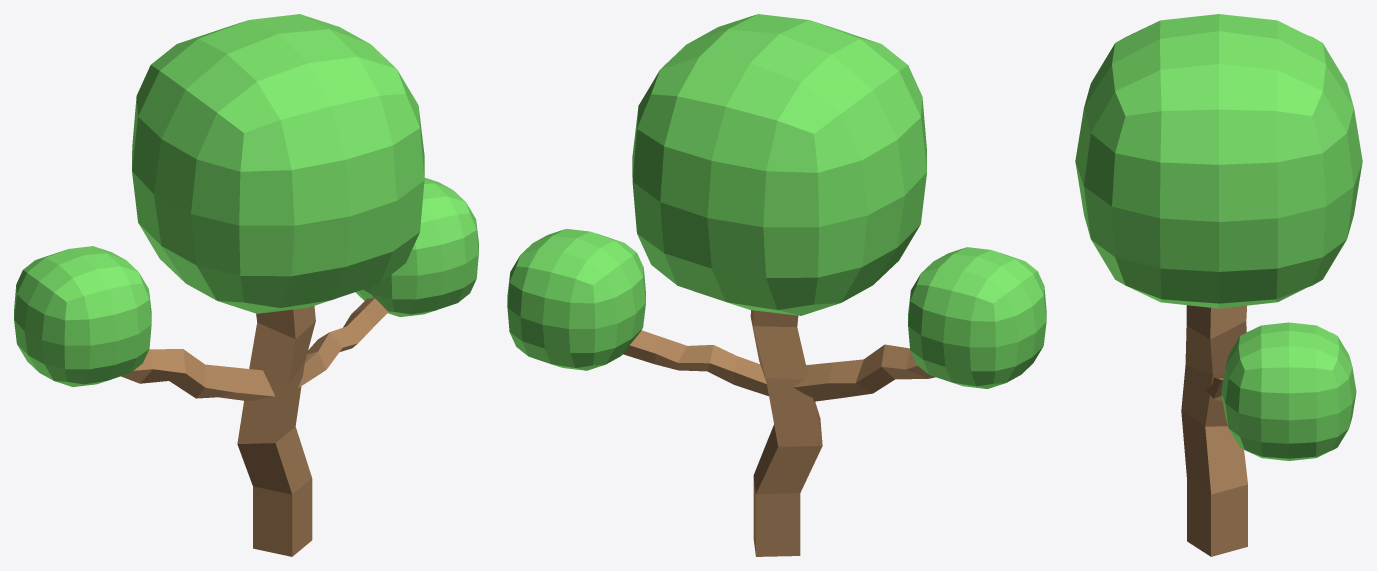
File: PlantMedium.fbx
3 renders of one model, left to right at view 1: azimuth 30°, elevation 25°; view 2: azimuth 150°, elevation 25°; view 3: azimuth 270°, elevation 25°, orthographic.
Parts seen in each view (by area): view 1: PlatMedium; view 2: PlatMedium; view 3: PlatMedium.
Boxes of the visible parts, <box> form: PlatMedium: <box>14,14,478,556</box>; PlatMedium: <box>507,14,1046,556</box>; PlatMedium: <box>1075,14,1362,556</box>.
Bounding box in the file's own units: 107 × 108 × 55.27.
